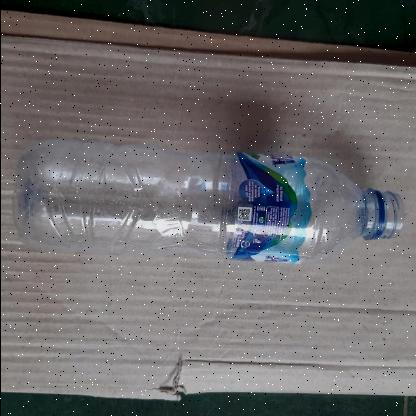Plastic Bottle: (30, 135, 410, 279)
